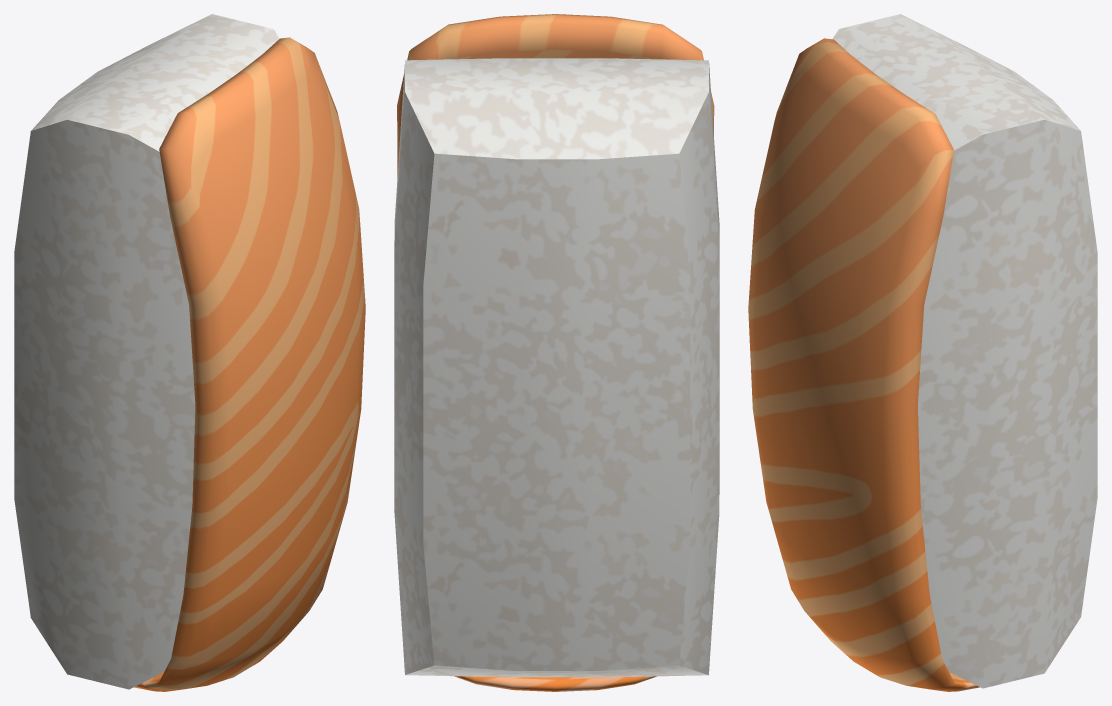
The model's file is SUSHI2.fbx.
3 views of the same model, side by side, from view 1: azimuth 30°, elevation 25°; view 2: azimuth 150°, elevation 25°; view 3: azimuth 270°, elevation 25° (orthographic). The views are drawn at different scales.
Parts seen in each view (by area): view 1: SUSHI2; view 2: SUSHI2; view 3: SUSHI2.
Part boxes in pixels (<box>): SUSHI2: <box>14,14,365,691</box>; SUSHI2: <box>394,14,719,691</box>; SUSHI2: <box>748,14,1097,691</box>.
Bounding box in the file's own units: 60.93 × 112 × 59.07.
